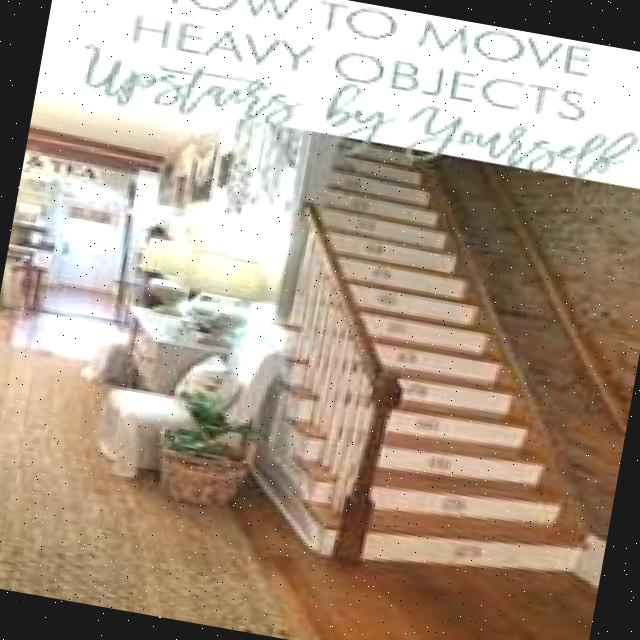stairs: (227, 126, 640, 601)
